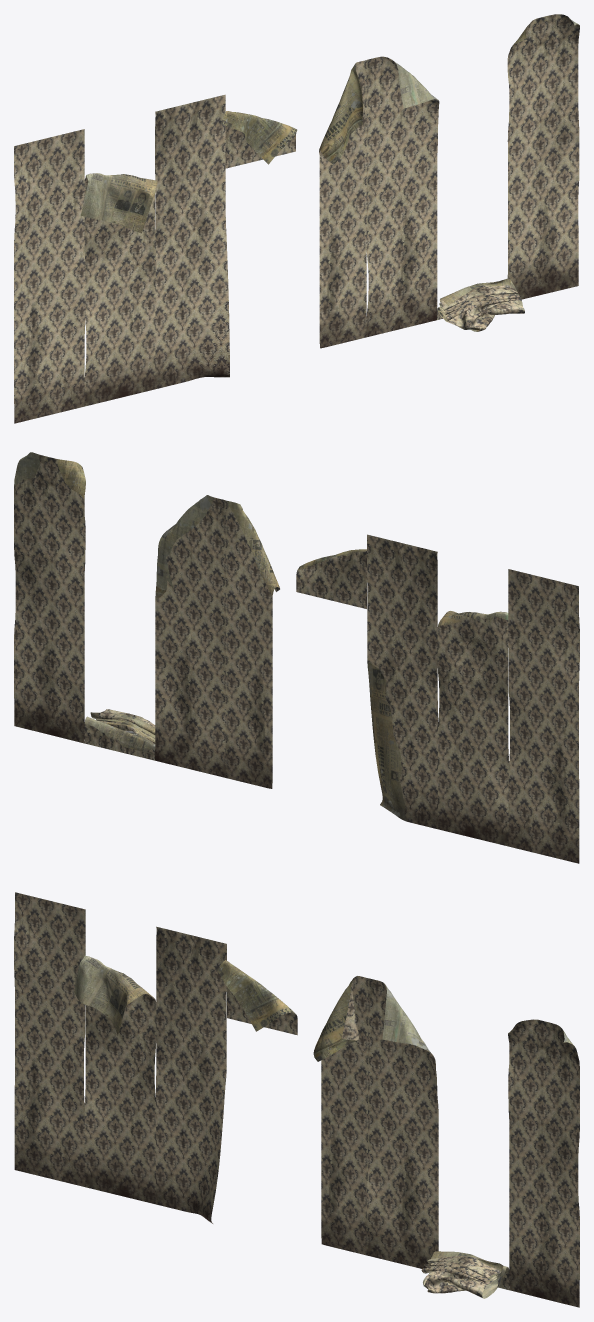
Rendered from обоисктчфбъу.fbx.
The picture shows the model from 3 angles, top to bottom: view 1: azimuth 30°, elevation 25°; view 2: azimuth 150°, elevation 25°; view 3: azimuth 330°, elevation 25°; orthographic projection.
Parts seen in each view (by area): view 1: гррЛП.001; view 2: гррЛП.001; view 3: гррЛП.001.
Part boxes in pixels (box(x1,y1,x2,y2)): гррЛП.001: box(14, 14, 579, 423); гррЛП.001: box(14, 452, 579, 863); гррЛП.001: box(14, 892, 579, 1307).
Bounding box in the file's own units: 886 × 416 × 73.33.
